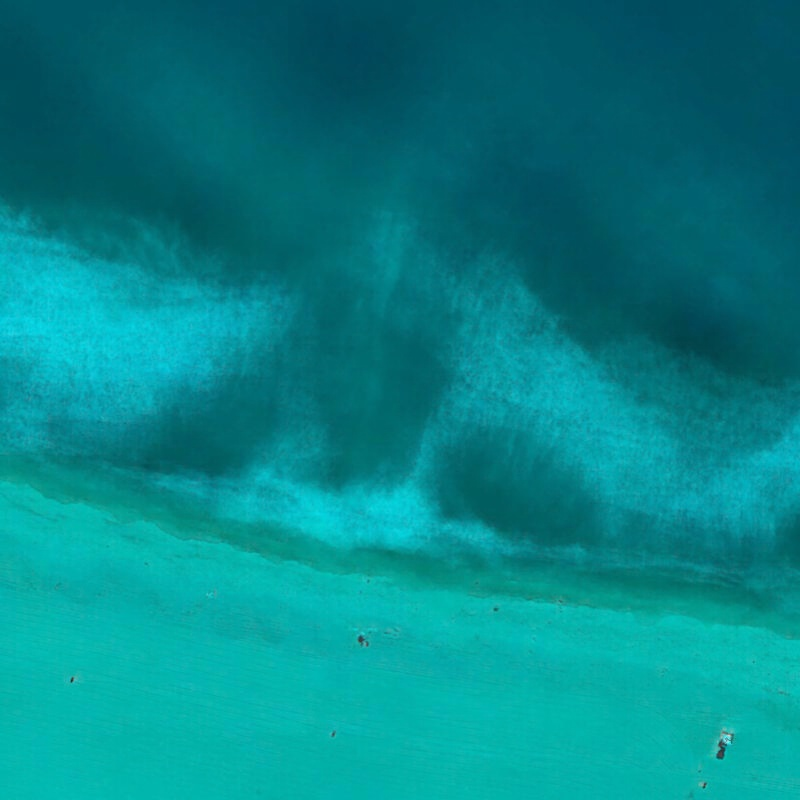rip_current: (251, 216, 467, 495)
